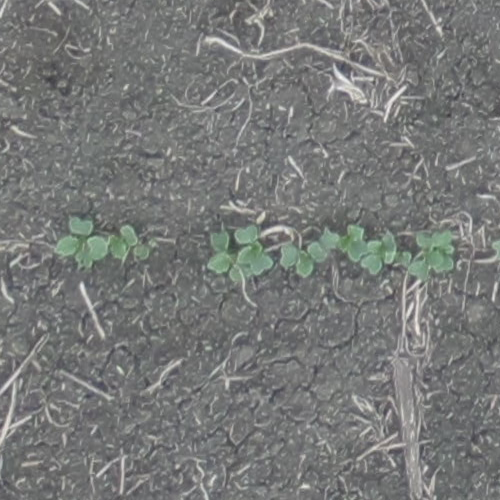clumped: (278, 224, 396, 274), (55, 217, 138, 268), (207, 226, 274, 276)
isolated: (409, 229, 454, 276), (492, 226, 499, 261)
